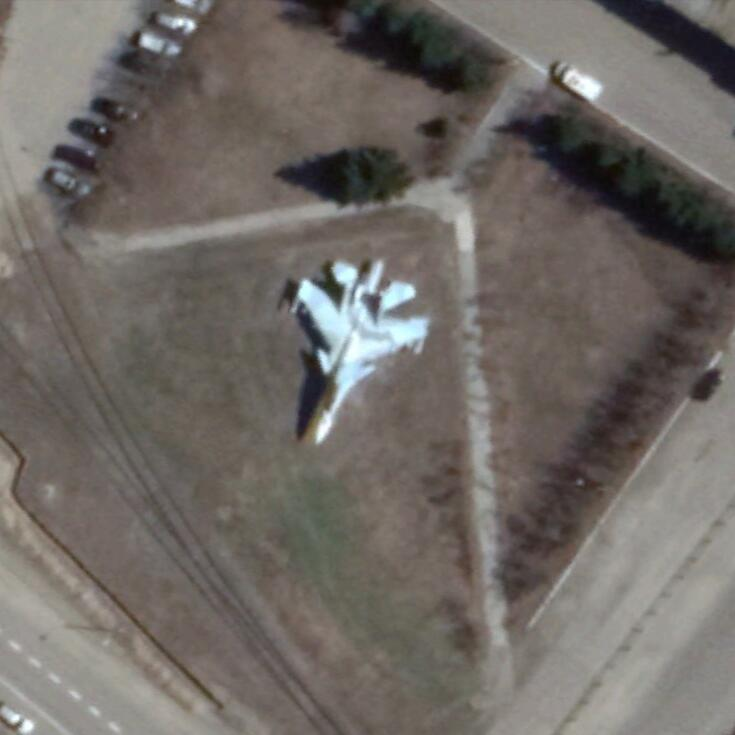A19: (281, 255, 434, 447)
